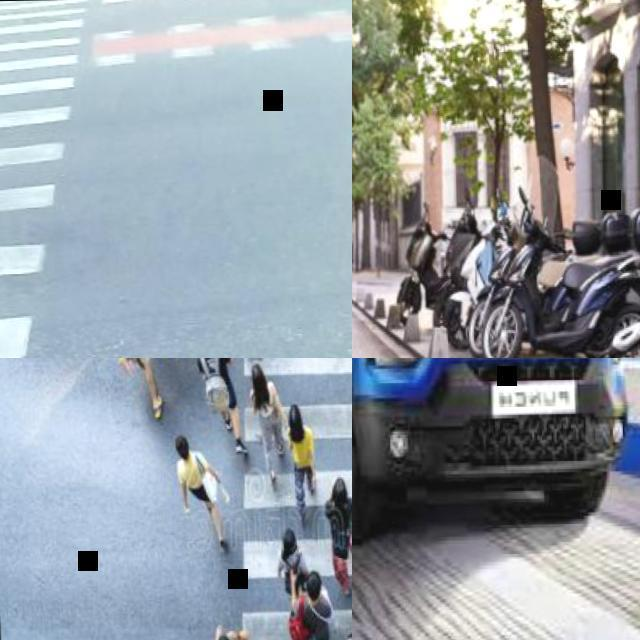car: (354, 200, 639, 560), (166, 357, 354, 639)
